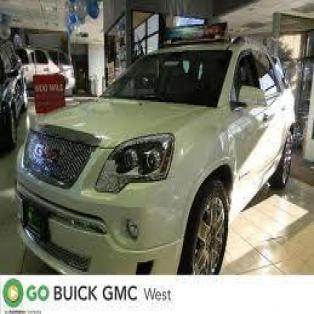Auto: (15, 24, 306, 277)
